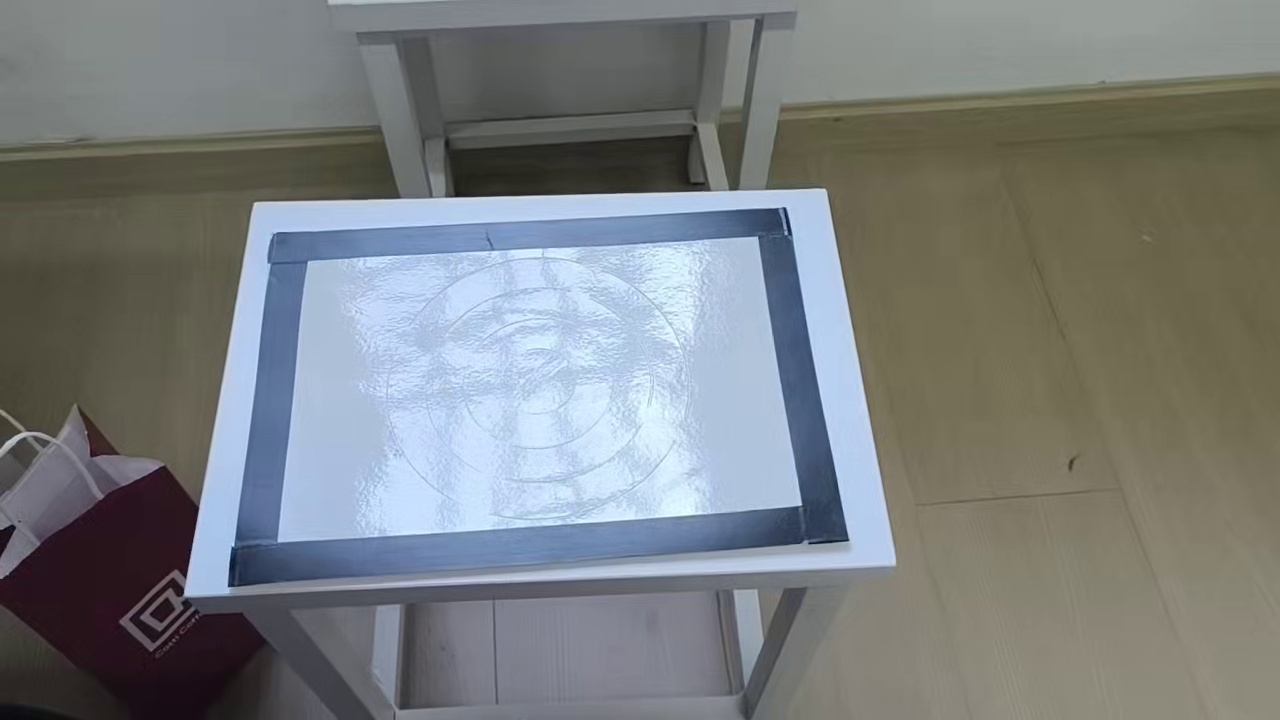board: (228, 208, 849, 586)
